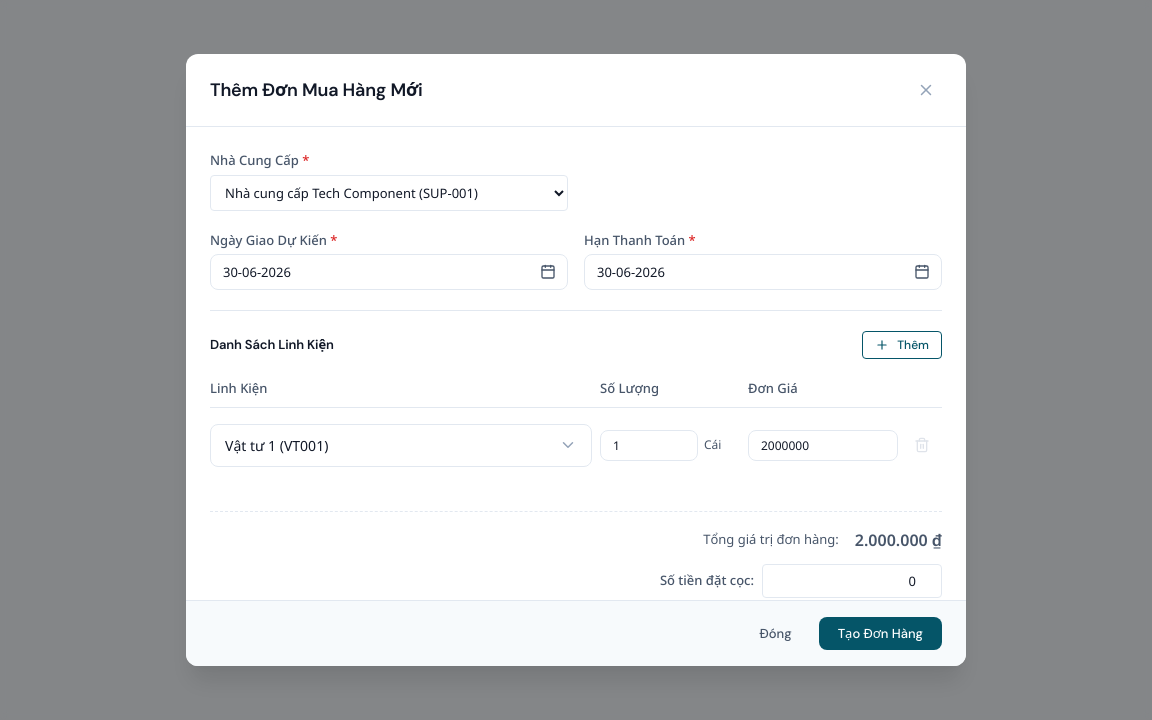
Test: PurchaseOrderFormModal › adds and removes item lines
Expected: the number of buttons named "Xóa linh kiện" is 1, [906,429,938,461]
Expected: the button named "Xóa linh kiện" is disabled, [906,429,938,461]
# Add item
Click the button "Thêm" at [902, 345], box [862,331,942,359]
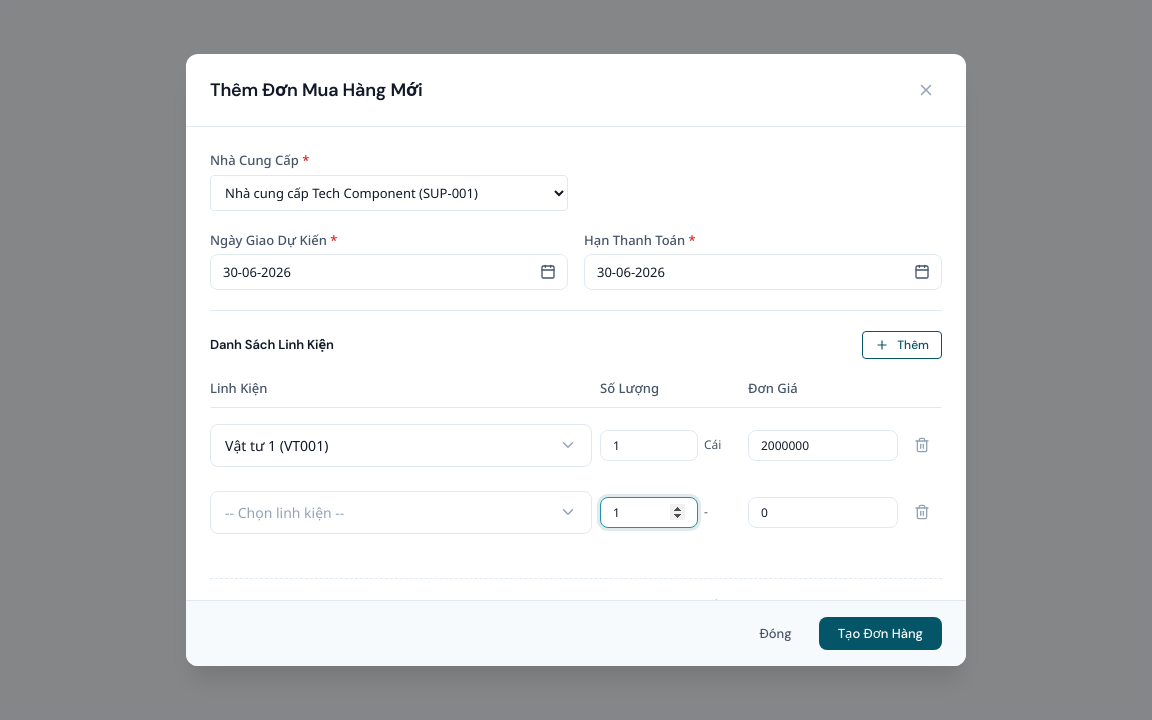
Expected: the number of buttons named "Xóa linh kiện" is 2
Expected: the button named "Xóa linh kiện" in the row of "Cái" is enabled, [906,429,938,461]
# Remove item
Click the button named "Xóa linh kiện" in the row of "-- Chọn linh kiện --" at [922, 512], box [906,496,938,528]
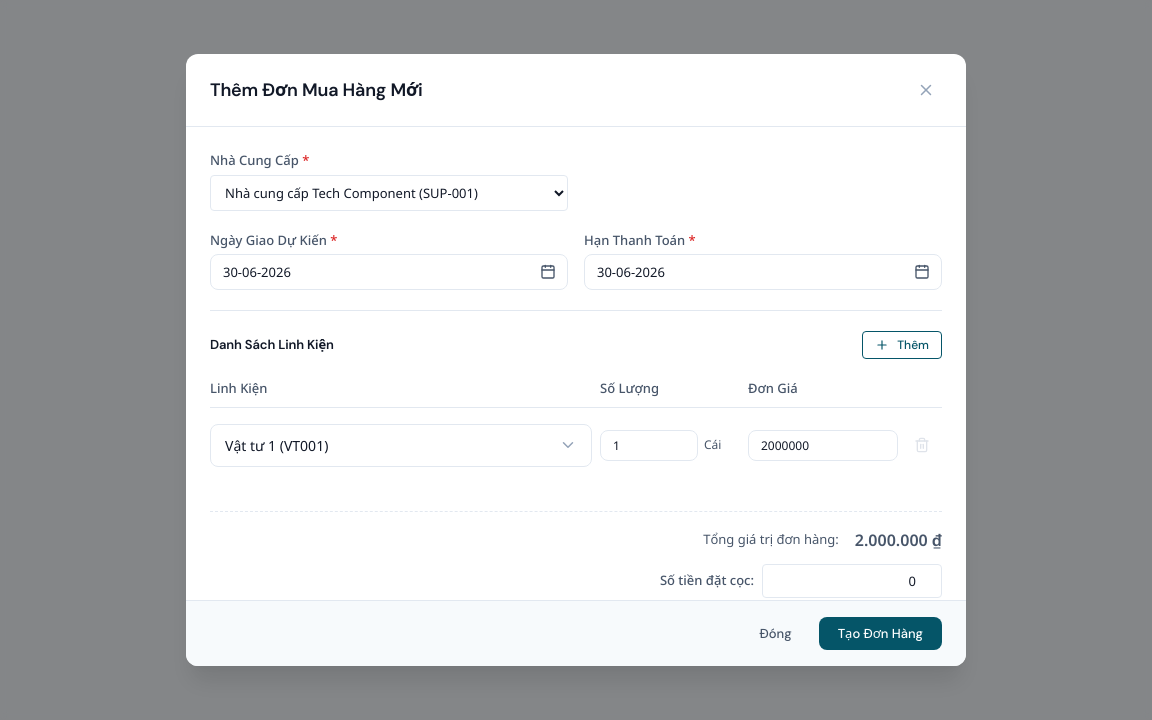
Expected: the number of buttons named "Xóa linh kiện" is 1, [906,429,938,461]
